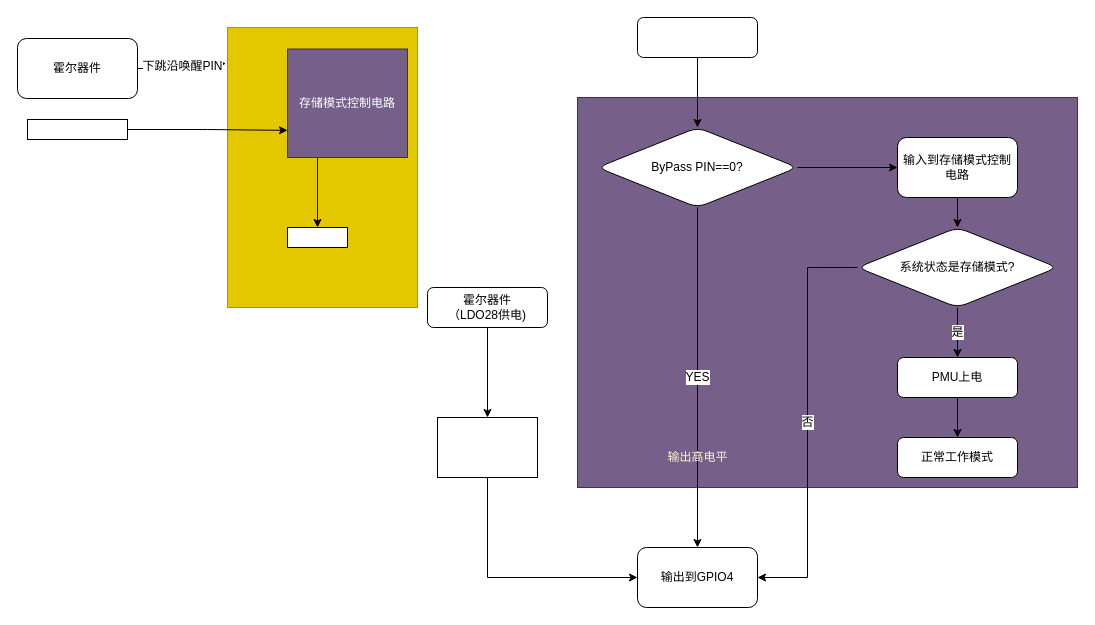
Image size: 1095x625. Some labels were removed from this diagram. Each missing label, with the box of its shape:
ByPass PIN: (26, 118, 128, 140)
EC1000: (226, 26, 418, 308)
GPIO: (286, 226, 348, 248)
GPIO PIN: (436, 416, 538, 478)
霍尔器件产生下降沿（VBAT供电): (636, 16, 758, 58)
